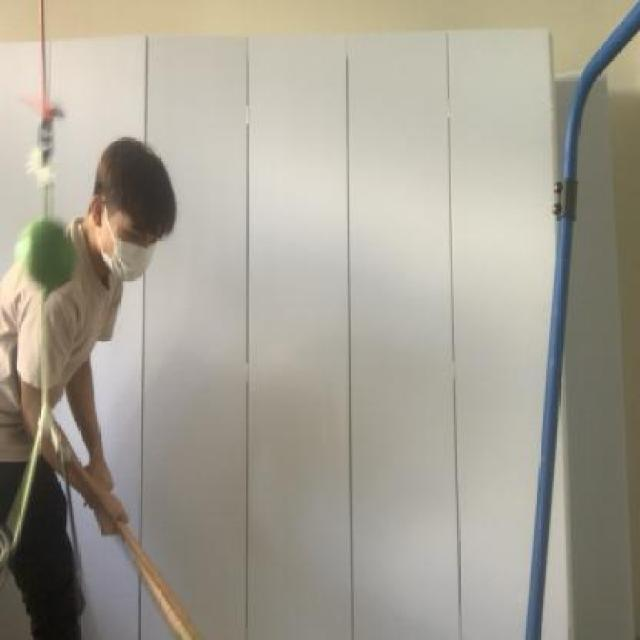baseball: (17, 214, 78, 292)
